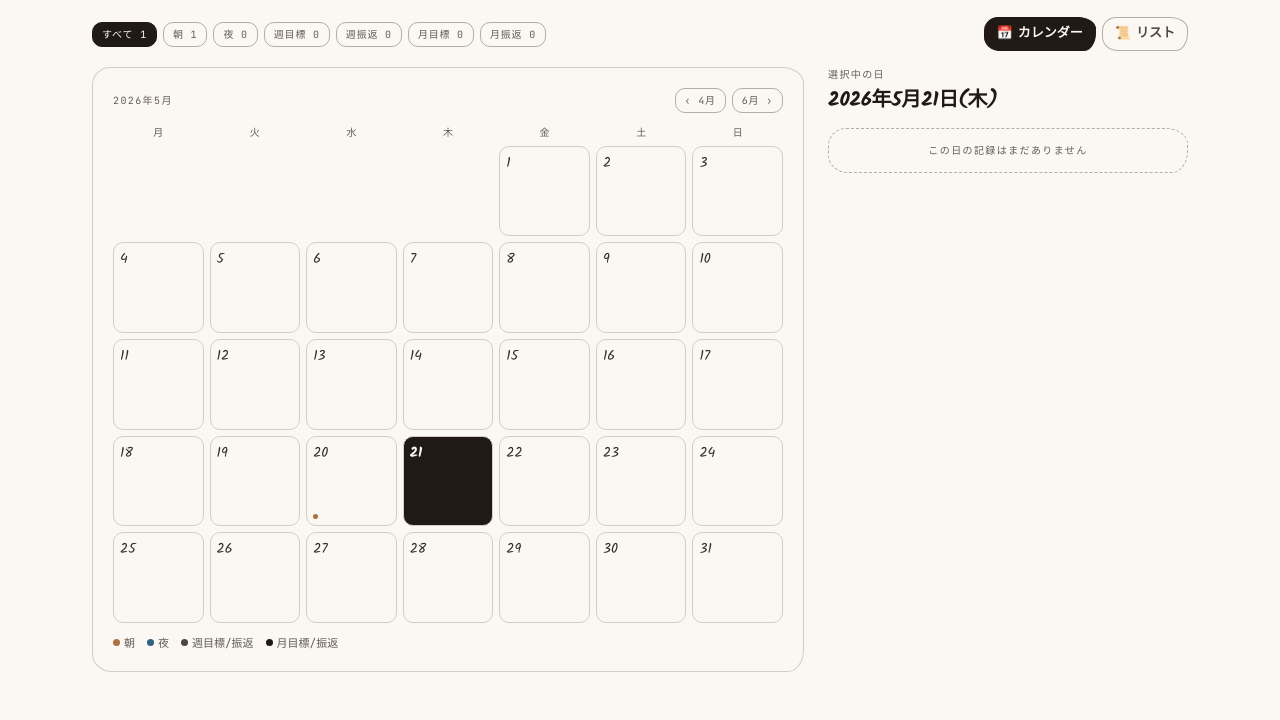
HistoryClient › Calendar ビュー: フィルタで除外された日と本当に空の日でメッセージを区別する
(page scrolled)
Click the cell named "20日": (352,481) [306,436,397,526]
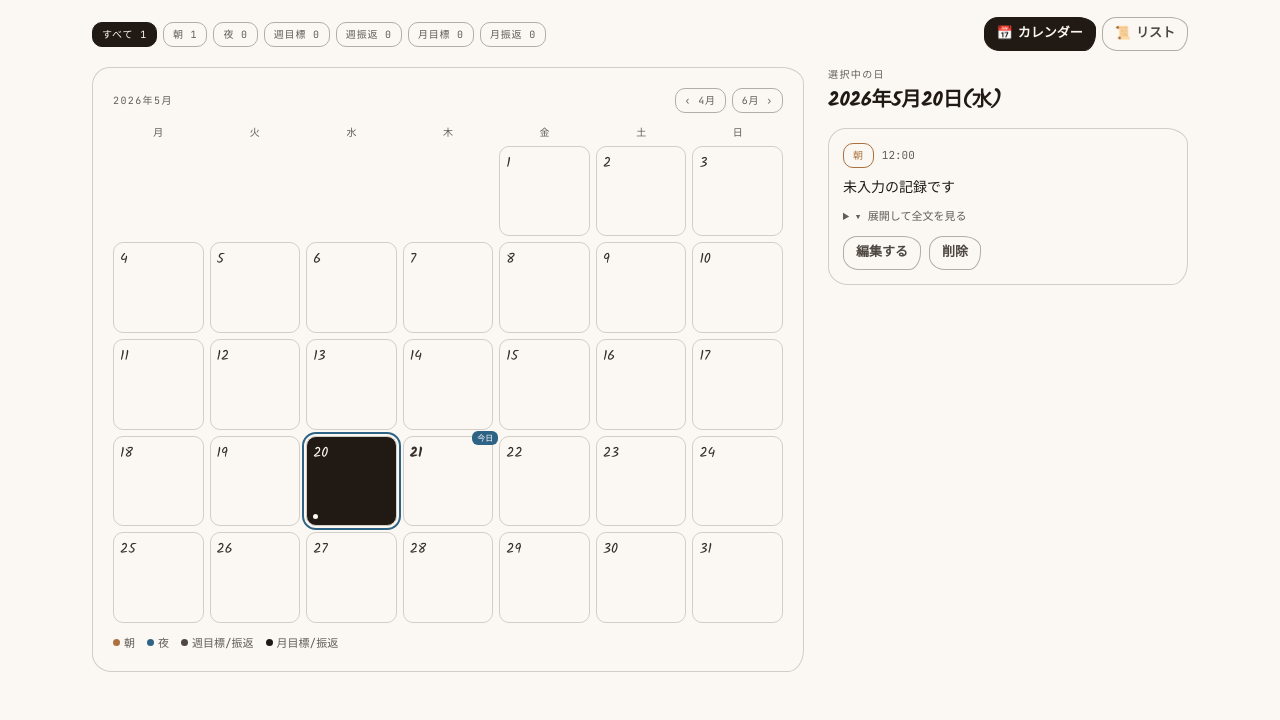
Click the button "夜 0": (236,34) [213,22,258,47]
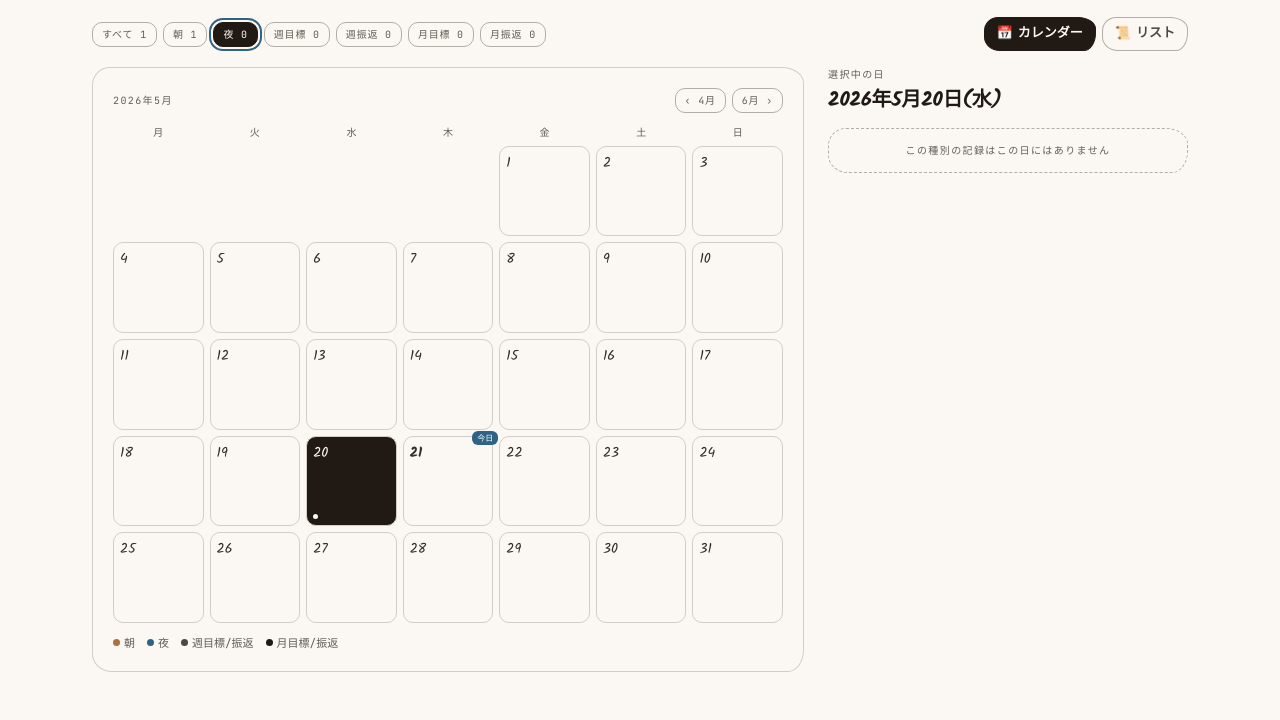
Check: the text "この日の記録はまだありません" is not shown
Check: the text "この種別の記録はこの日にはありません" is shown, box [906,144,1110,157]
